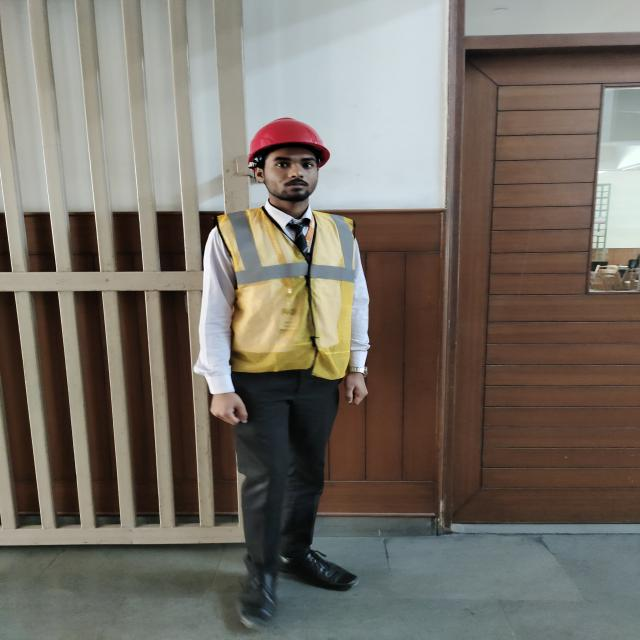safe: (195, 118, 367, 629)
